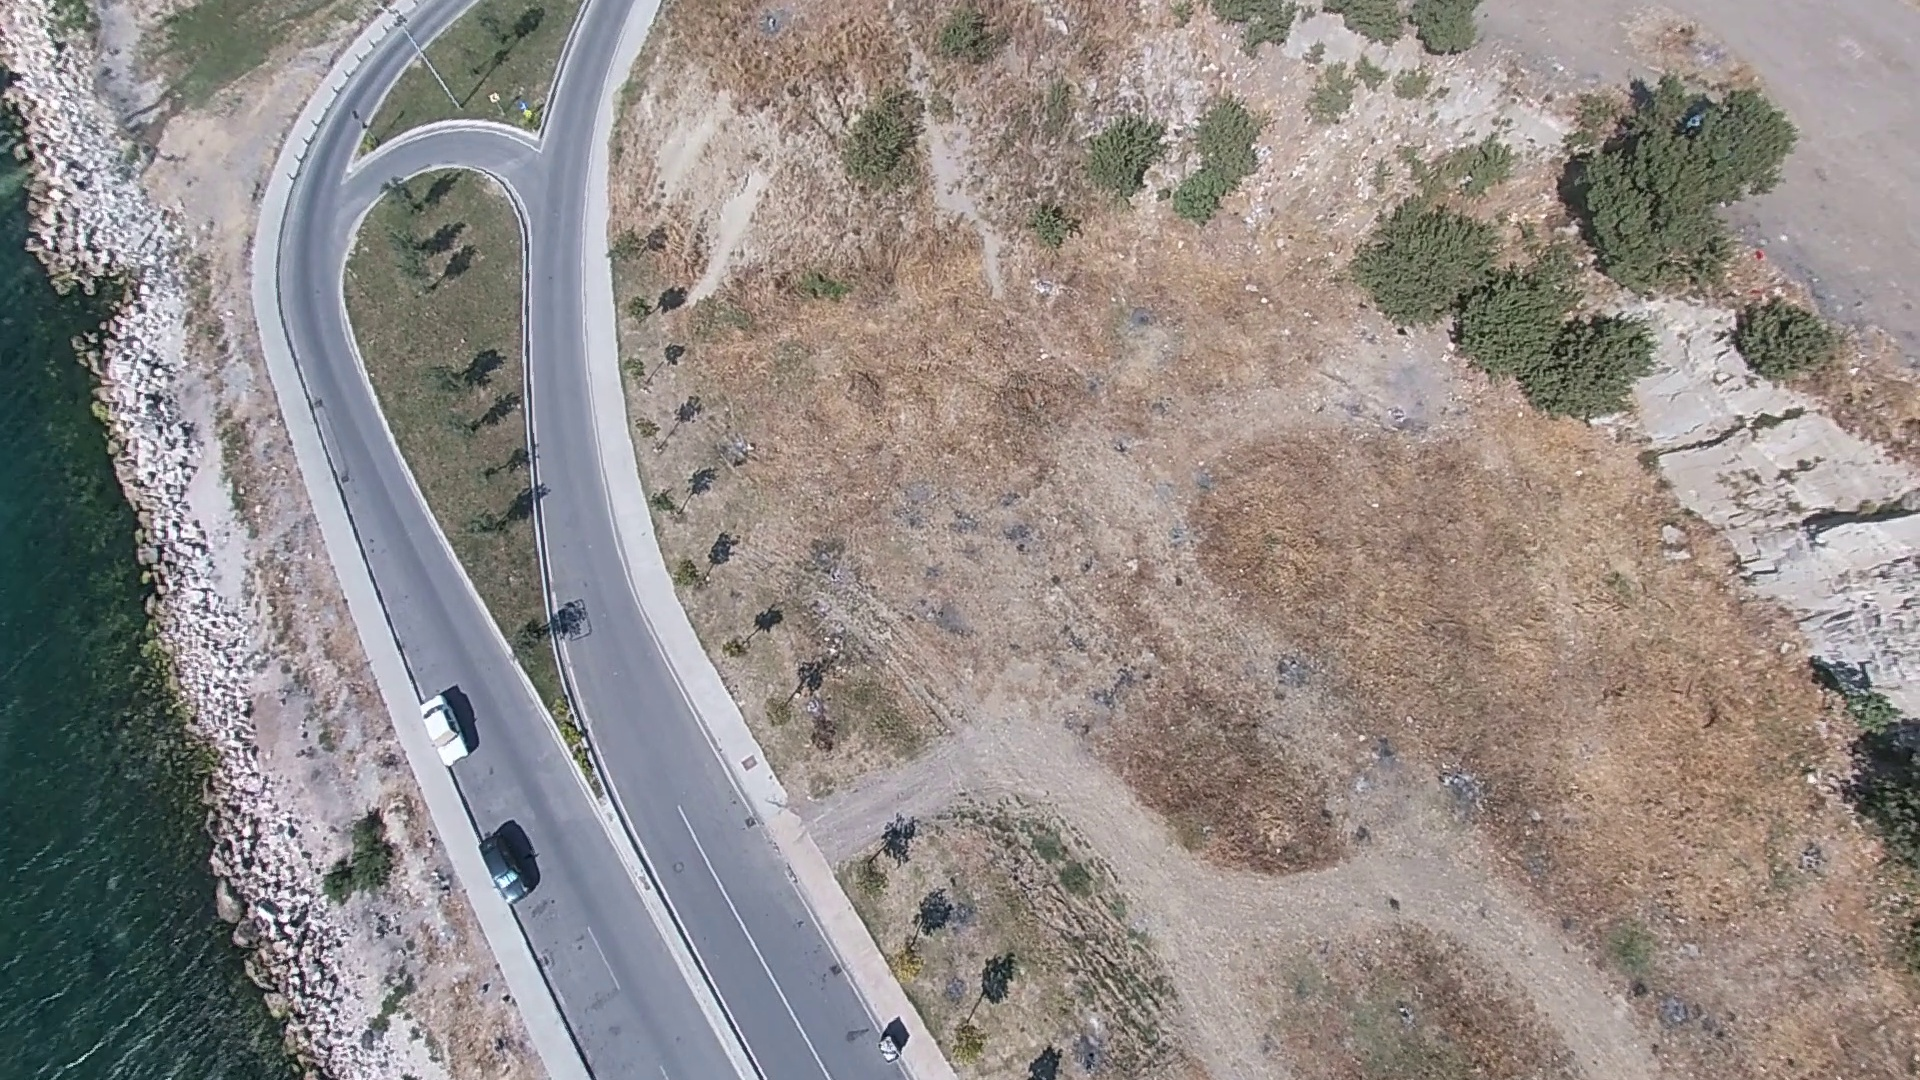araba: (477, 823, 541, 909), (417, 687, 476, 770)
